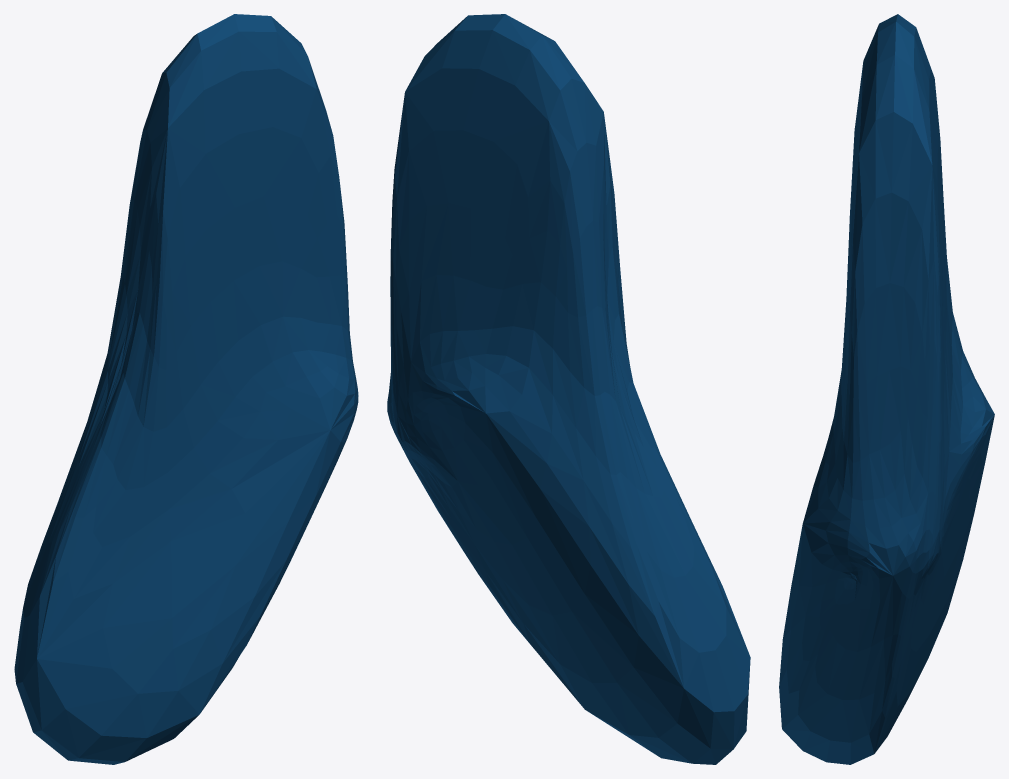
3 views of the same model, side by side, from view 1: azimuth 30°, elevation 25°; view 2: azimuth 150°, elevation 25°; view 3: azimuth 270°, elevation 25° (orthographic). The views are drawn at different scales.
Parts seen in each view (by area): view 1: 625_Cube.2513; view 2: 625_Cube.2513; view 3: 625_Cube.2513.
Part boxes in pixels (bbox=[...]): 625_Cube.2513: bbox=[14, 14, 358, 764]; 625_Cube.2513: bbox=[387, 14, 750, 764]; 625_Cube.2513: bbox=[779, 14, 994, 764].
Size of the model in its own units: 9.41 by 18.87 by 4.52.
